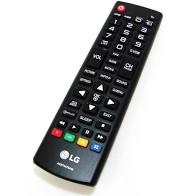remote control: (18, 0, 179, 196)
